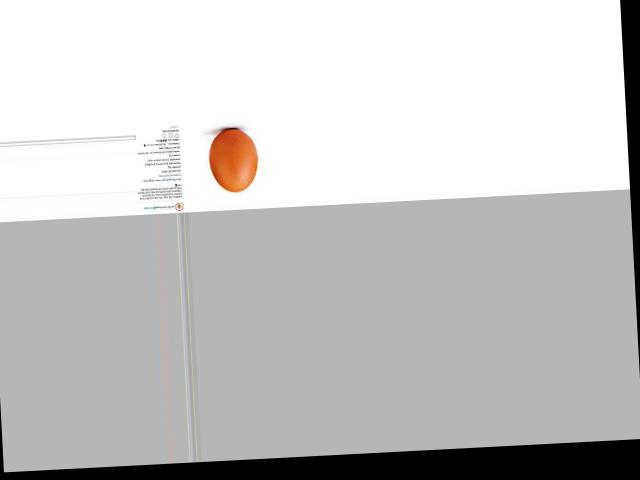egg: (207, 127, 259, 193)
